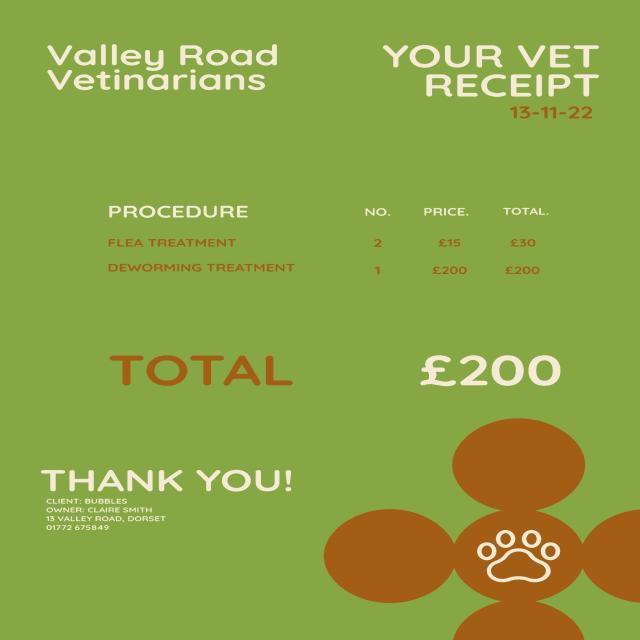paragraph: (36, 457, 301, 542), (376, 33, 604, 125), (27, 30, 297, 98), (105, 346, 302, 395), (424, 341, 569, 397)
table: (83, 186, 571, 296)
